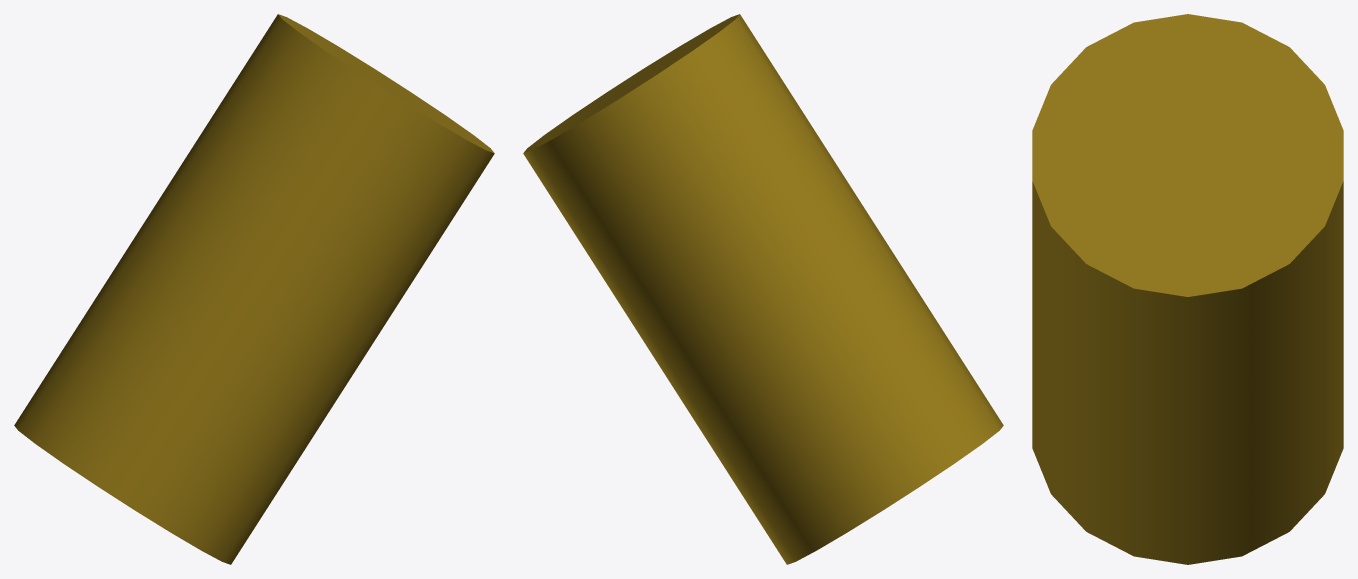
3 renders of one model, left to right at view 1: azimuth 30°, elevation 25°; view 2: azimuth 150°, elevation 25°; view 3: azimuth 270°, elevation 25°, orthographic. The views are drawn at different scales.
Parts seen in each view (by area): view 1: Cylinder28-FACES.Mesh; view 2: Cylinder28-FACES.Mesh; view 3: Cylinder28-FACES.Mesh.
Boxes of the visible parts, <box> form: Cylinder28-FACES.Mesh: <box>14,14,494,564</box>; Cylinder28-FACES.Mesh: <box>523,14,1003,564</box>; Cylinder28-FACES.Mesh: <box>1032,14,1343,564</box>.
Size of the model in its own units: 0.0542 by 0.0582 by 0.0272.
